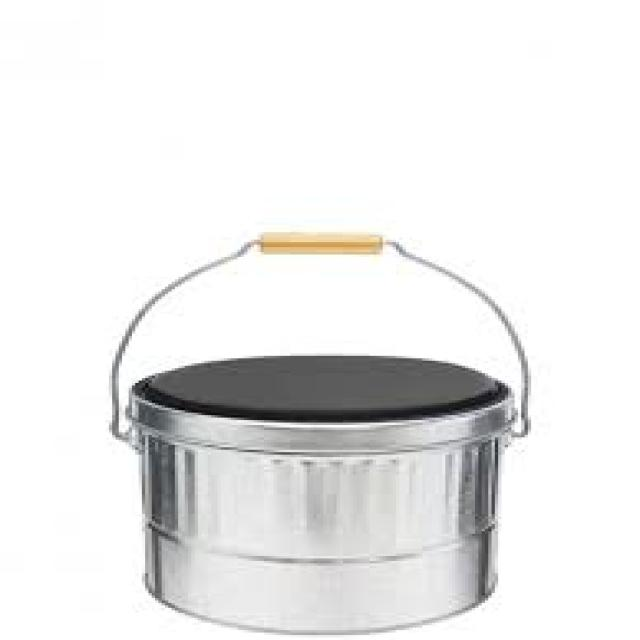metal: (113, 240, 531, 632), (142, 428, 504, 632), (109, 240, 260, 447), (109, 240, 257, 449), (386, 240, 531, 437), (129, 391, 514, 454), (261, 233, 382, 254)
